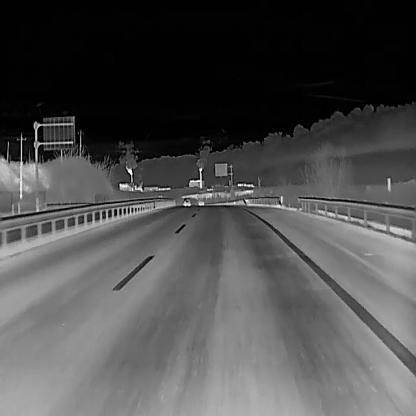car: (182, 197, 191, 207), (197, 198, 204, 206)
